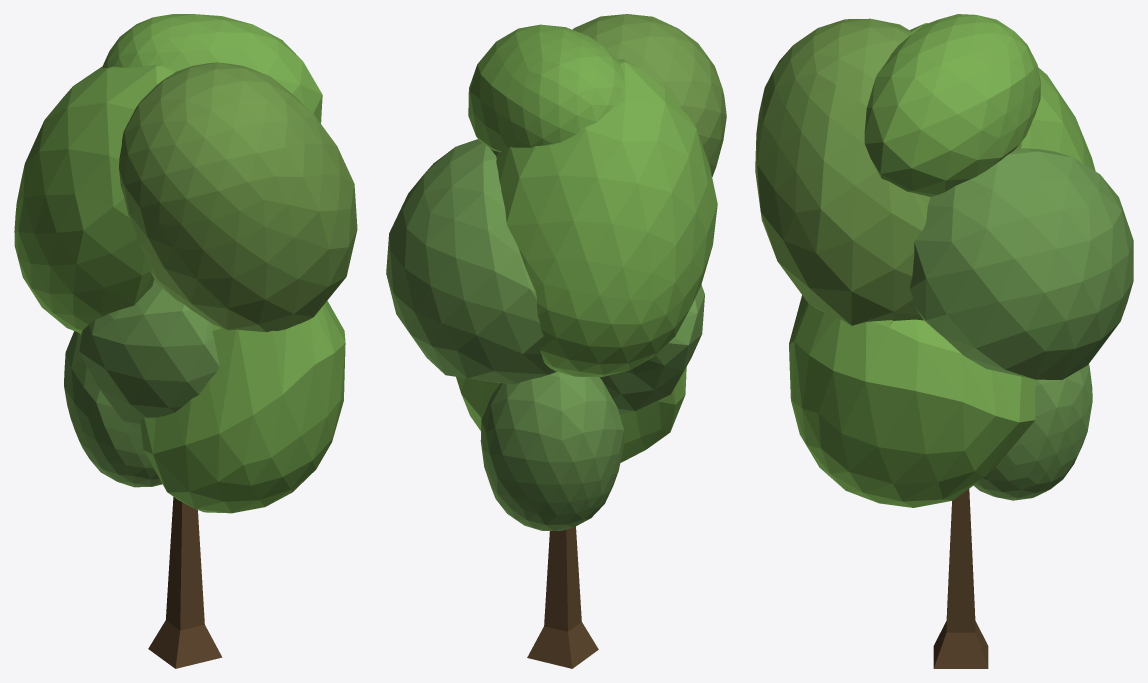
File: tree2.fbx
The picture shows the model from 3 angles, left to right: view 1: azimuth 30°, elevation 25°; view 2: azimuth 150°, elevation 25°; view 3: azimuth 270°, elevation 25°; orthographic projection. The views are drawn at different scales.
Visible parts, largest first — view 1: Cube.001; view 2: Cube.001; view 3: Cube.001.
Boxes of the visible parts, x1,y1,x2,y2 form: Cube.001: (14, 14, 357, 668); Cube.001: (386, 14, 726, 668); Cube.001: (755, 14, 1133, 668).
Size of the model in its own units: 6.09 by 12.89 by 6.98.
